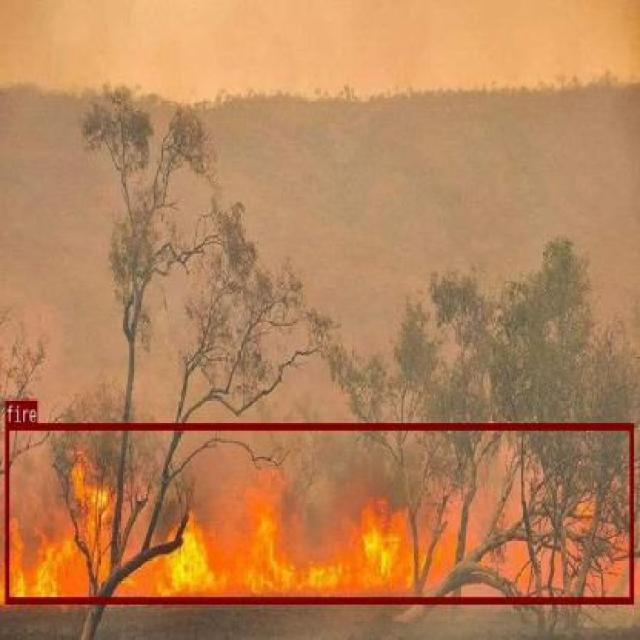Fire: (5, 422, 633, 602)
